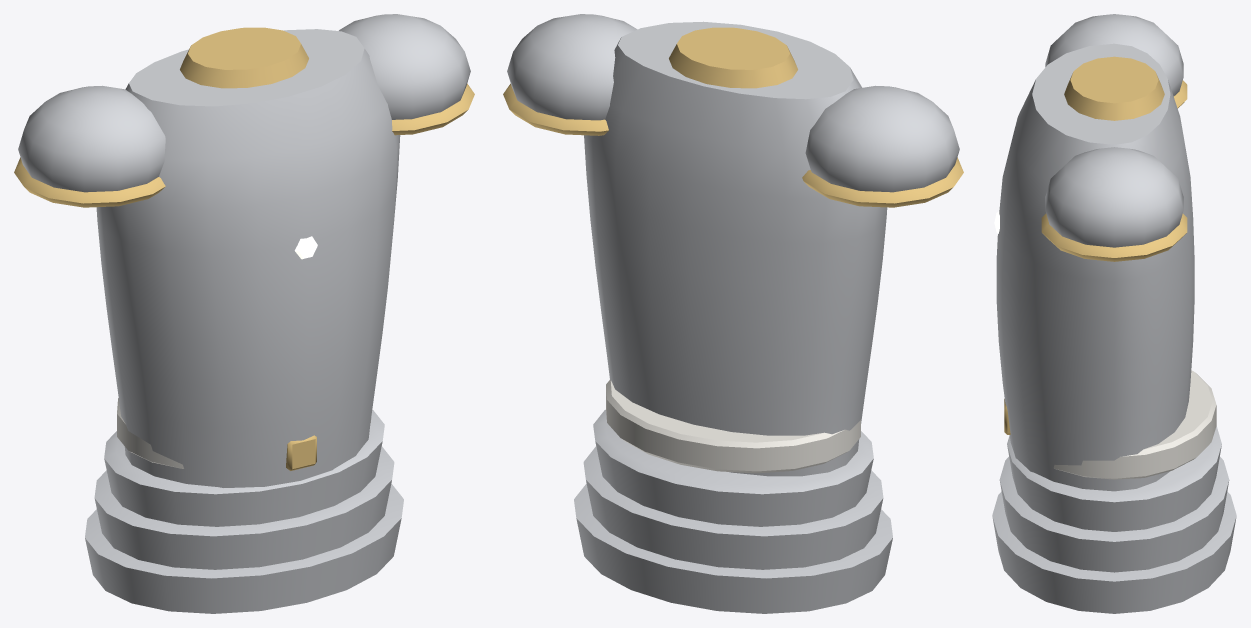
The model's file is tc_sanctified_plate.glb.
3 renders of one model, left to right at view 1: azimuth 30°, elevation 25°; view 2: azimuth 150°, elevation 25°; view 3: azimuth 270°, elevation 25°, orthographic. The views are drawn at different scales.
Parts seen in each view (by area): view 1: tc_sanctified_plate; view 2: tc_sanctified_plate; view 3: tc_sanctified_plate.
Boxes of the visible parts, left/top/right/bottom form: tc_sanctified_plate: left=14, top=14, right=474, bottom=613; tc_sanctified_plate: left=503, top=14, right=963, bottom=613; tc_sanctified_plate: left=992, top=14, right=1236, bottom=613.
Bounding box in the file's own units: 0.5987 × 0.66 × 0.3104.
